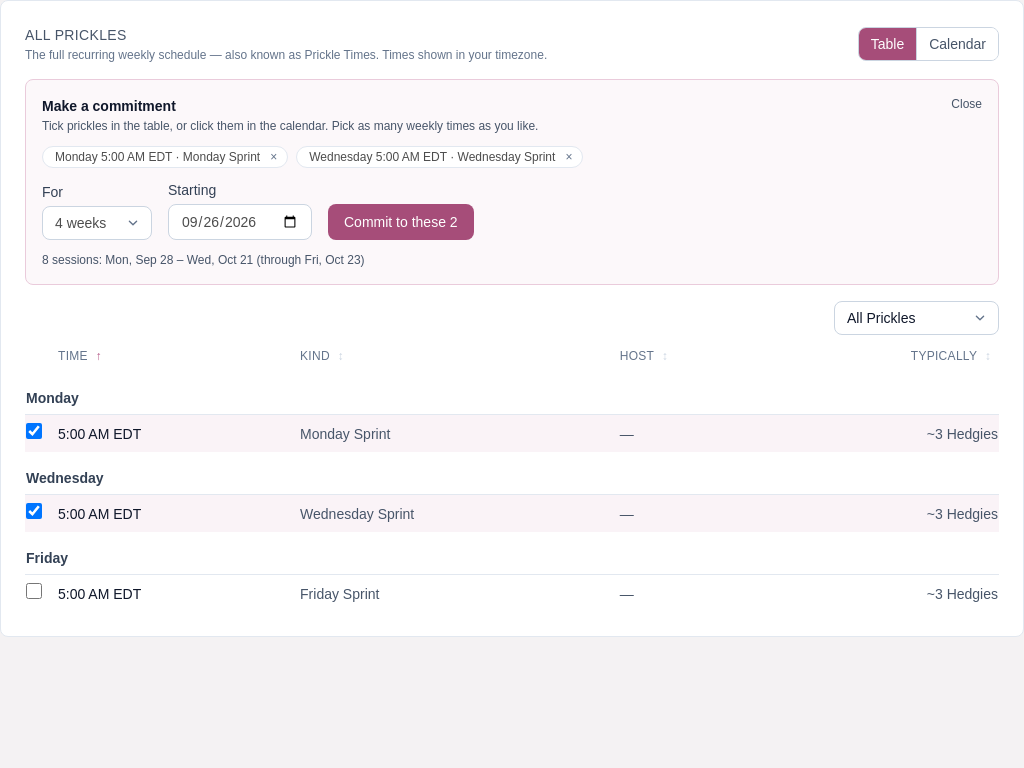
All Prickles commit mode › lets the member remove a pick from the panel, which unticks its row
The image size is (1024, 768).
Click the button named "Remove Monday 5:00 AM EDT · Monday Sprint" at (274, 157), box [264,149,283,165]
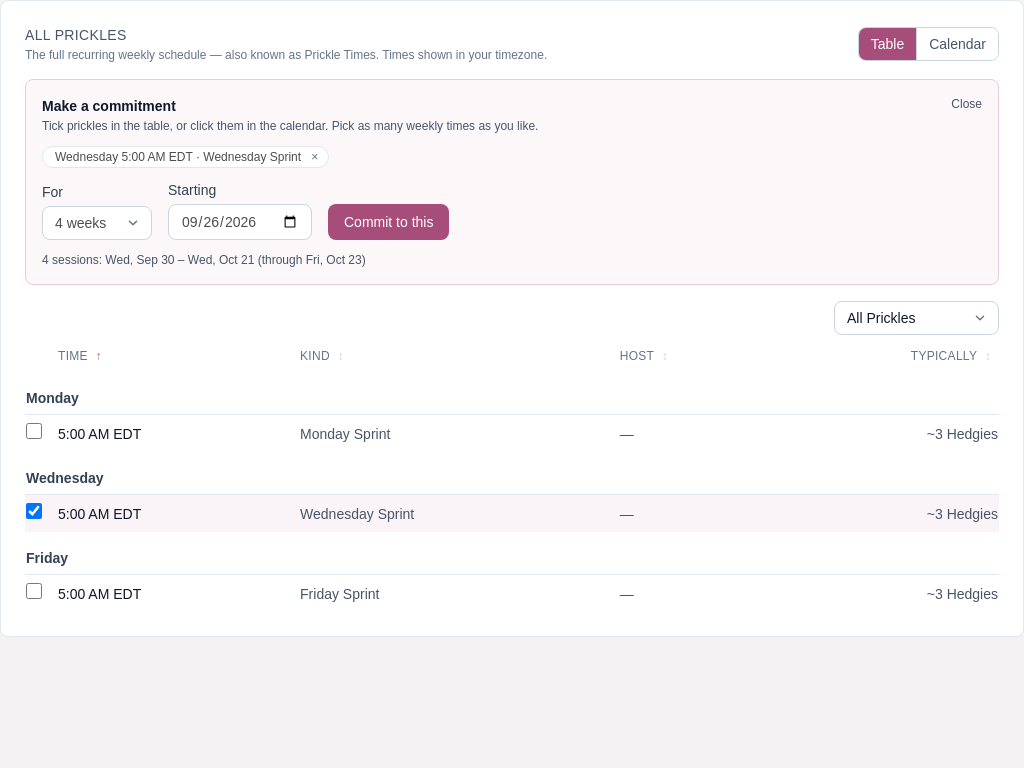
Result: the button "Commit to this" is shown at [328,204,450,240]
